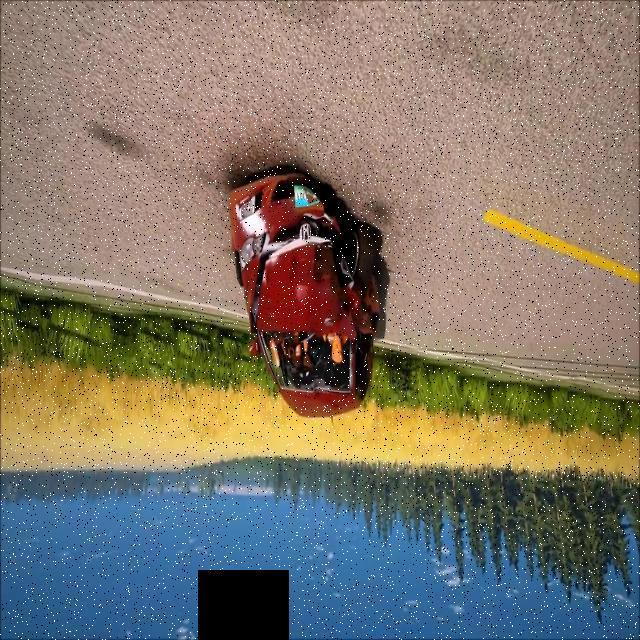vehicle: (214, 124, 400, 437)
